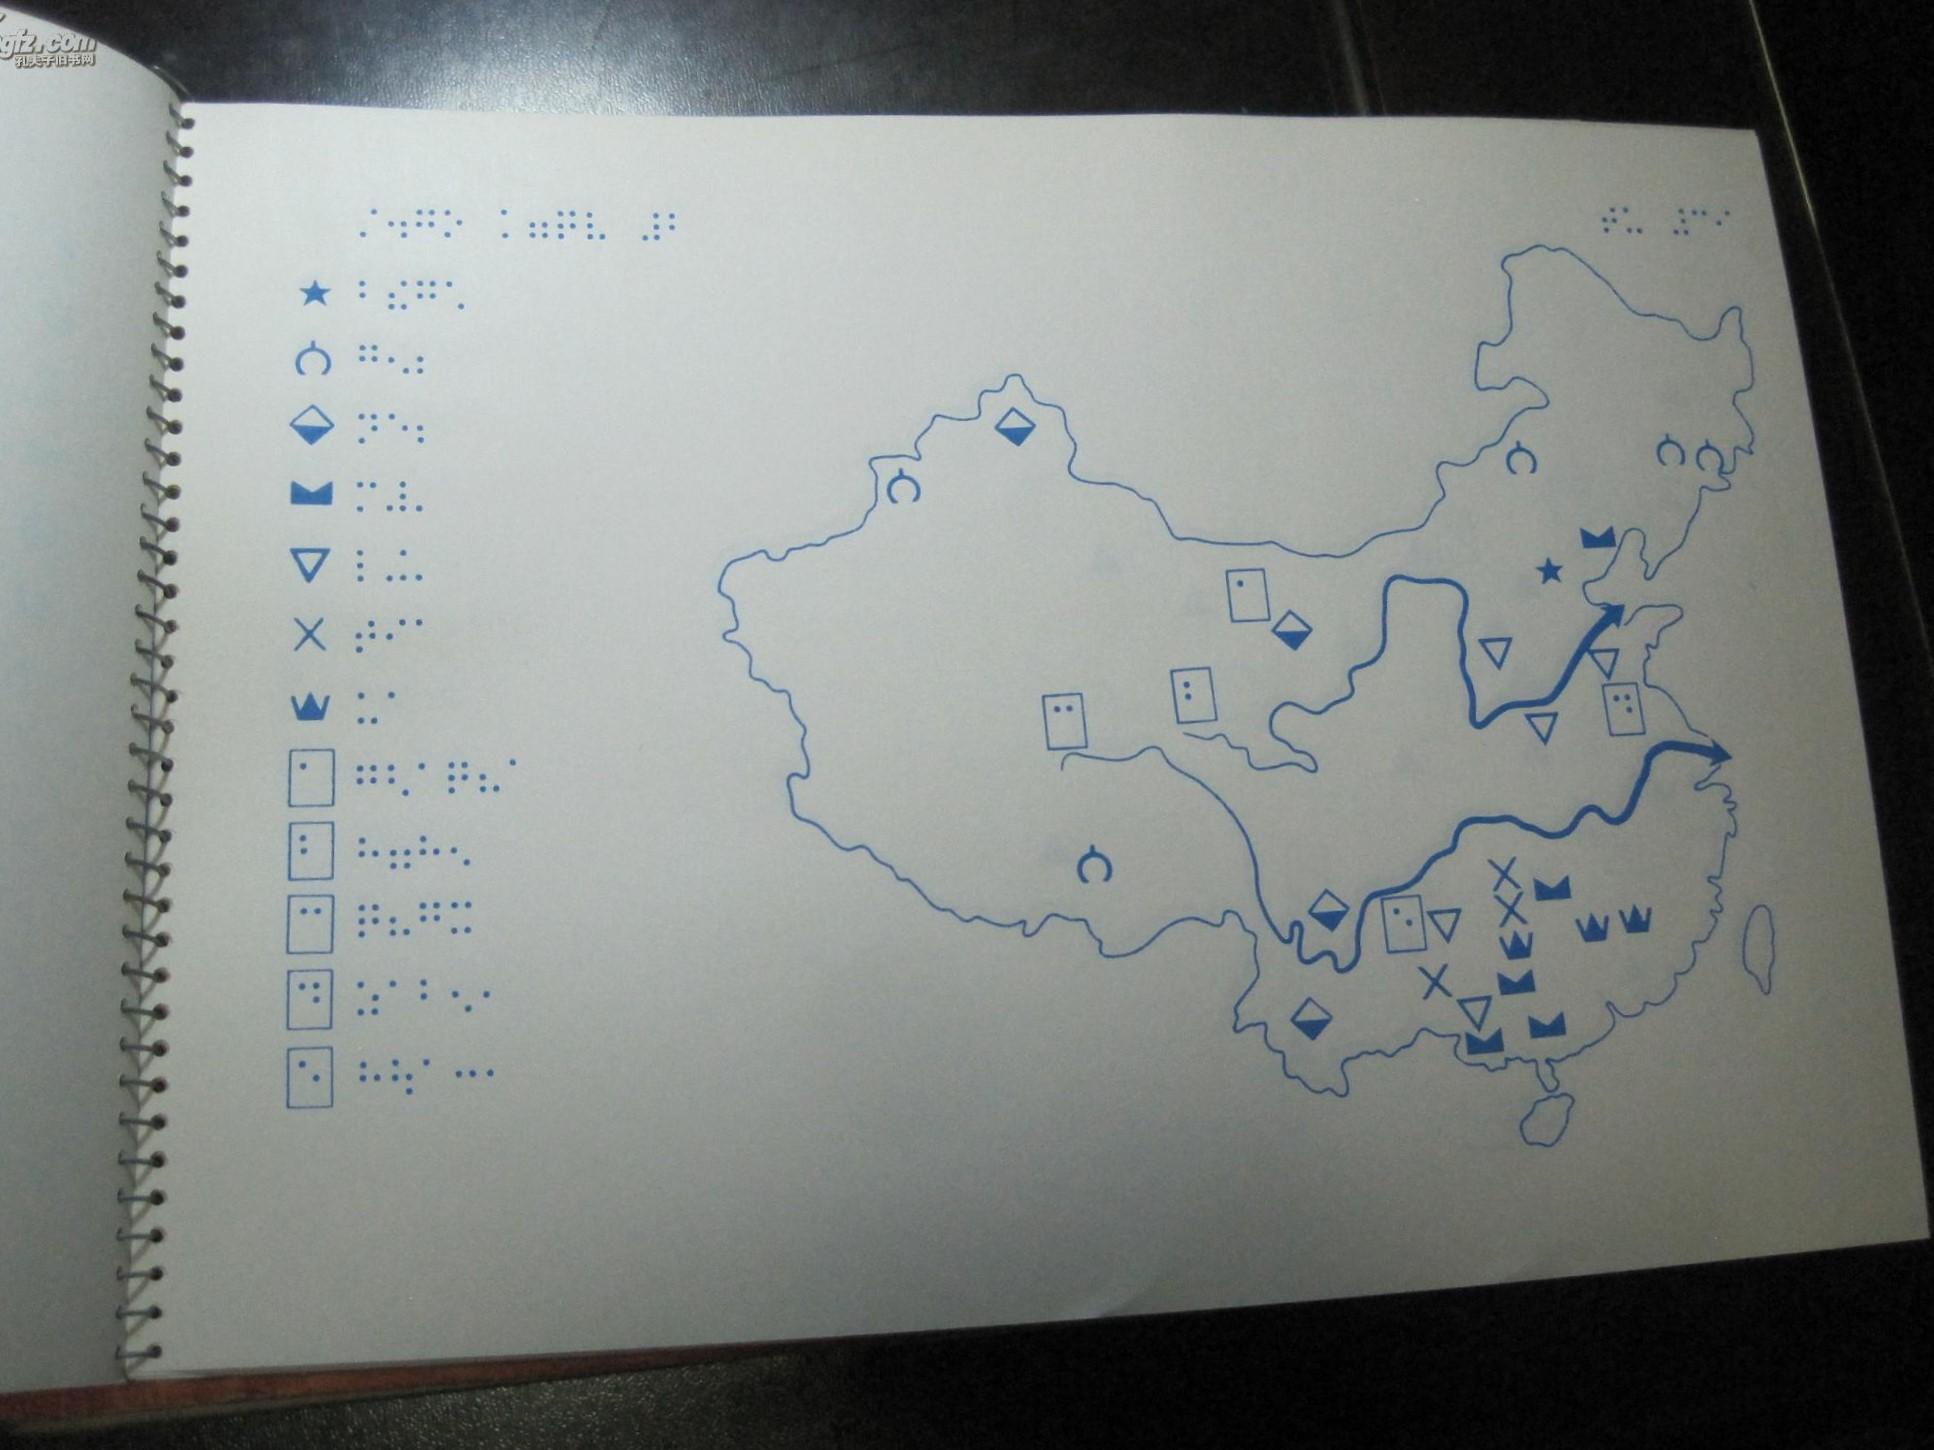Braille: (417, 976, 448, 1020), (1049, 701, 1078, 746), (388, 976, 416, 1020), (1180, 676, 1211, 716), (1610, 691, 1639, 733), (420, 1057, 448, 1100), (298, 832, 329, 870), (1390, 903, 1418, 944), (486, 1057, 512, 1100), (480, 979, 509, 1017), (298, 906, 327, 944), (1233, 577, 1262, 615), (509, 755, 535, 797), (451, 976, 477, 1016), (358, 1059, 384, 1097), (387, 902, 413, 940), (391, 1057, 414, 1100), (454, 1059, 477, 1101), (388, 833, 413, 873), (298, 762, 326, 797), (385, 763, 411, 800), (387, 688, 410, 730), (355, 547, 379, 585), (414, 545, 439, 583), (356, 979, 381, 1017), (356, 903, 381, 941), (417, 900, 442, 938), (356, 688, 381, 727), (416, 762, 440, 800), (298, 979, 323, 1017), (556, 207, 580, 244), (385, 547, 410, 583), (356, 835, 381, 871), (448, 759, 472, 795), (451, 899, 474, 937), (480, 759, 503, 797), (298, 1059, 321, 1097), (487, 207, 512, 242), (356, 411, 381, 446), (355, 478, 379, 513), (353, 762, 378, 797), (355, 618, 378, 655), (384, 618, 407, 655), (416, 618, 439, 655), (385, 207, 410, 241), (385, 277, 410, 311), (358, 206, 381, 241), (387, 343, 410, 378), (416, 343, 439, 378), (416, 411, 439, 446), (416, 480, 439, 515), (388, 411, 410, 448), (585, 209, 608, 242), (669, 212, 691, 245), (385, 480, 408, 513), (451, 835, 474, 868), (416, 279, 437, 314), (417, 835, 439, 870), (358, 343, 381, 375), (528, 209, 550, 242), (443, 209, 464, 241), (445, 280, 466, 312), (416, 207, 436, 241), (1622, 206, 1643, 236), (358, 279, 378, 309), (643, 212, 661, 244), (1690, 209, 1709, 238), (1674, 207, 1690, 238), (1602, 204, 1619, 233), (1715, 209, 1731, 235)
